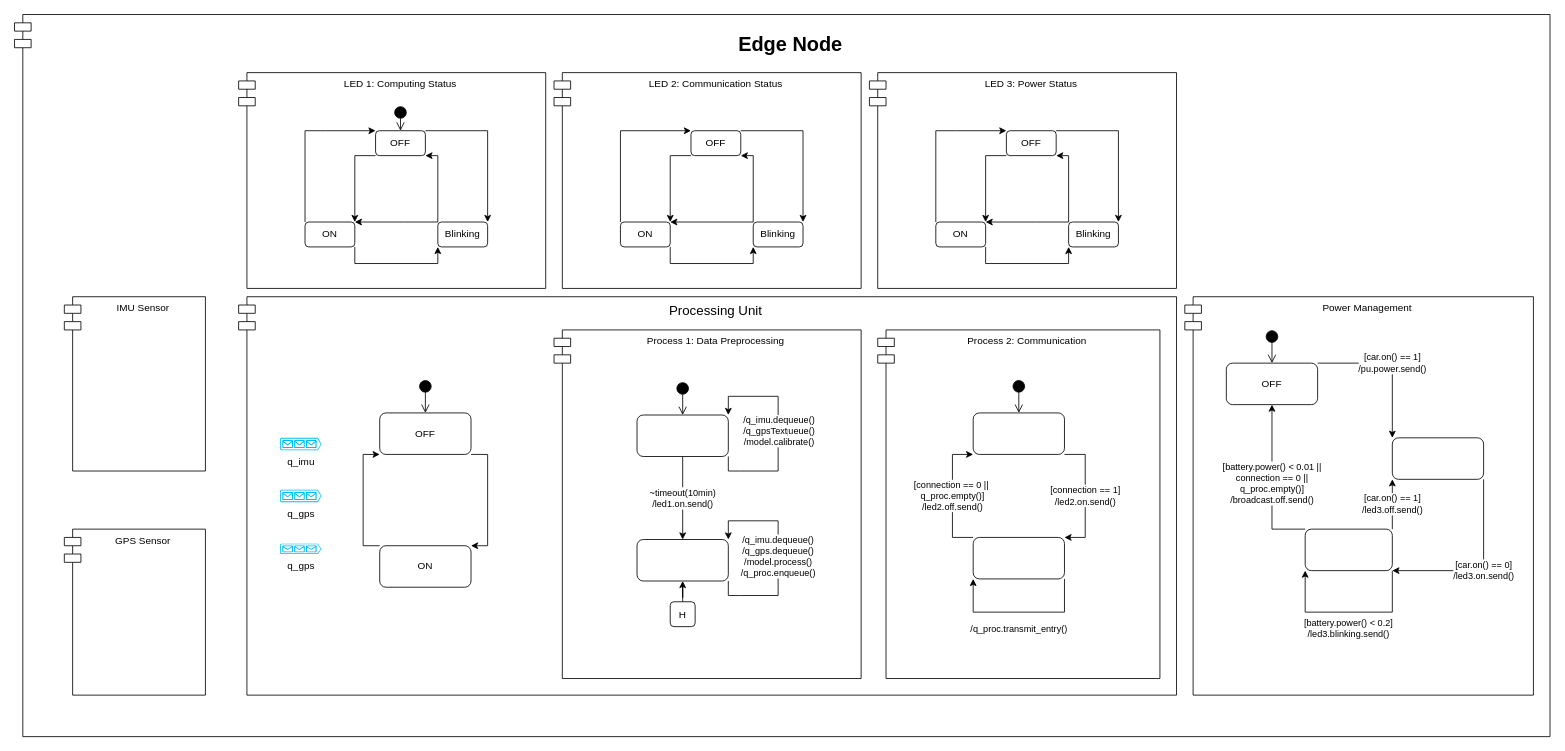
Some shapes in this 1565 by 751 pixel diagram are drawn without their labels. The shapes that lost their labels are listed below. From the top down, each one's centre as x and y in pixels, then its label:
the point at 682,435: Calibrating
the point at 1018,433: Idle
the point at 1437,458: Car Power
the point at 682,560: Processing
the point at 1018,558: Transmitting
the point at 1348,549: Battery Power
